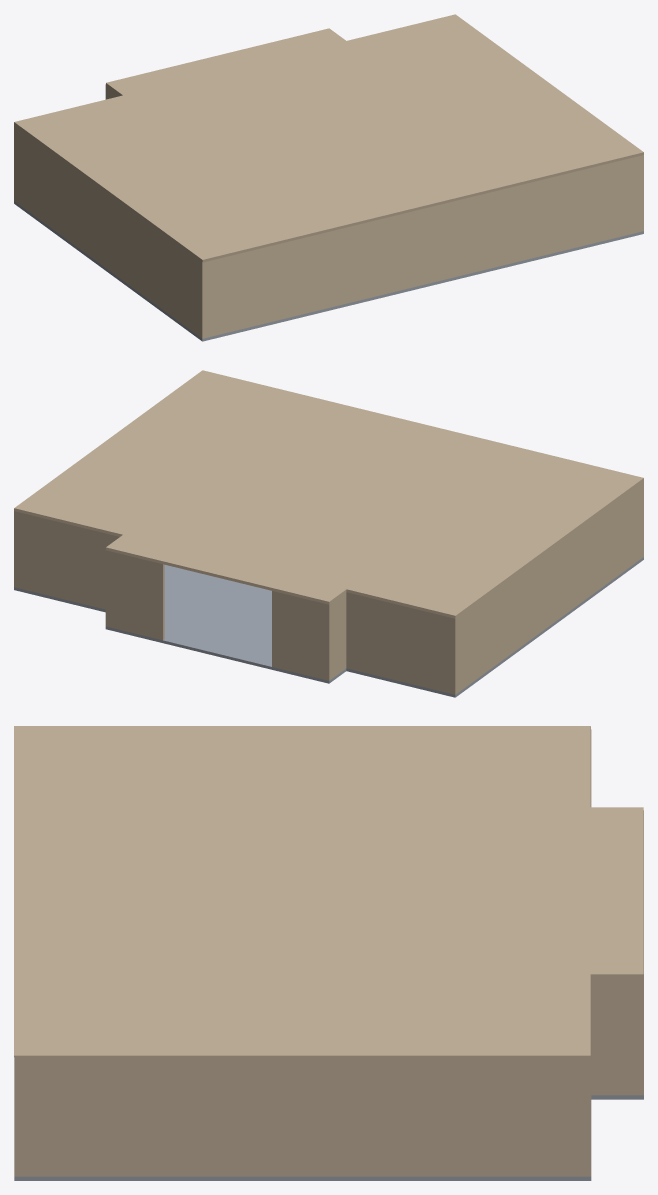
The model's file is backrooms.glb.
The picture shows the model from 3 angles, top to bottom: view 1: azimuth 30°, elevation 25°; view 2: azimuth 150°, elevation 25°; view 3: azimuth 270°, elevation 25°; orthographic projection. The views are drawn at different scales.
Visible parts, largest first — view 1: Plane; view 2: Plane; view 3: Plane.
Part boxes in pixels (<box>): Plane: <box>14,14,643,341</box>; Plane: <box>14,370,643,697</box>; Plane: <box>14,726,643,1180</box>.
Size of the model in its own units: 163 by 28.83 by 131.
